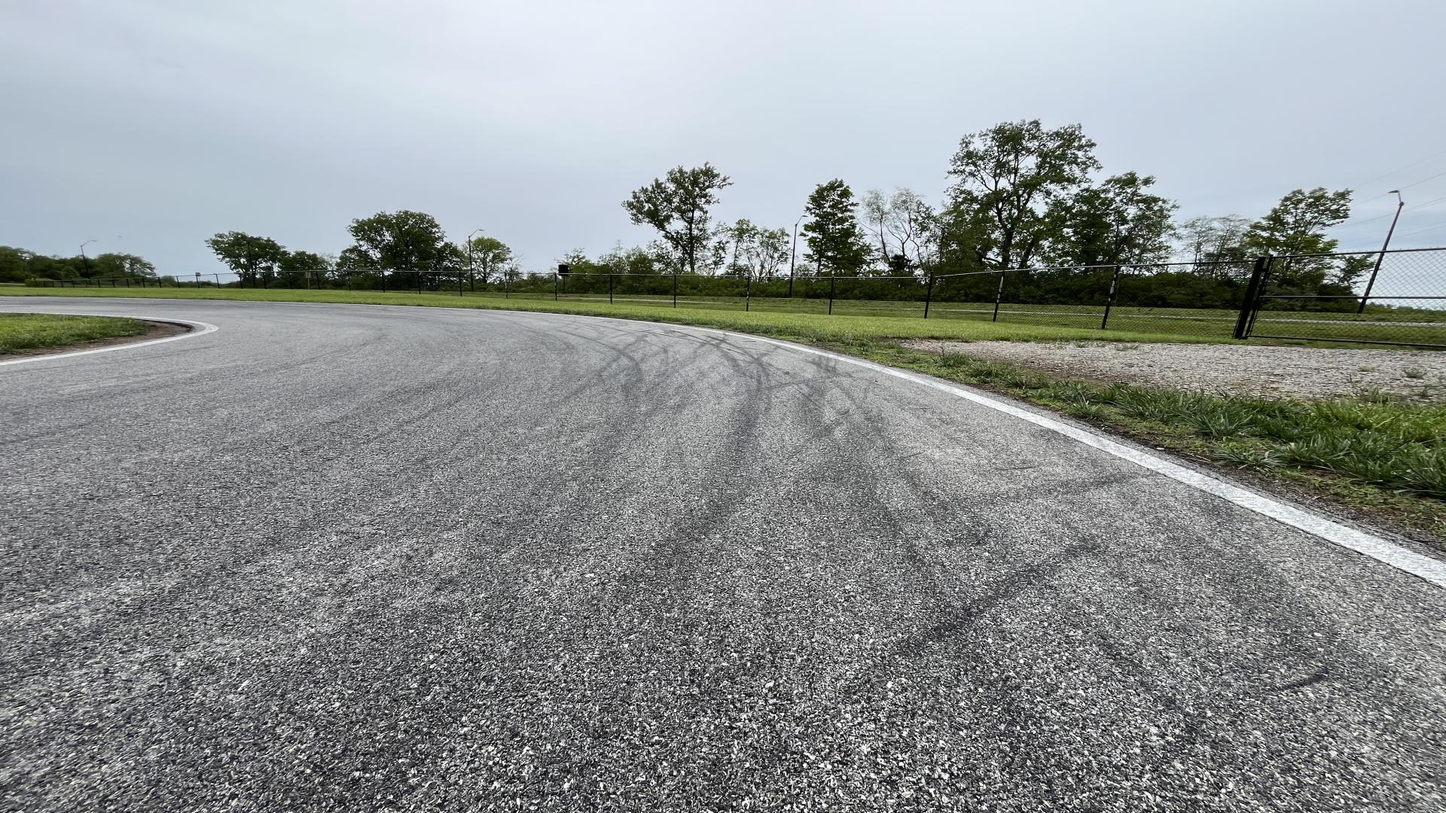white-line: (0, 296, 1445, 585), (1, 311, 218, 366)
